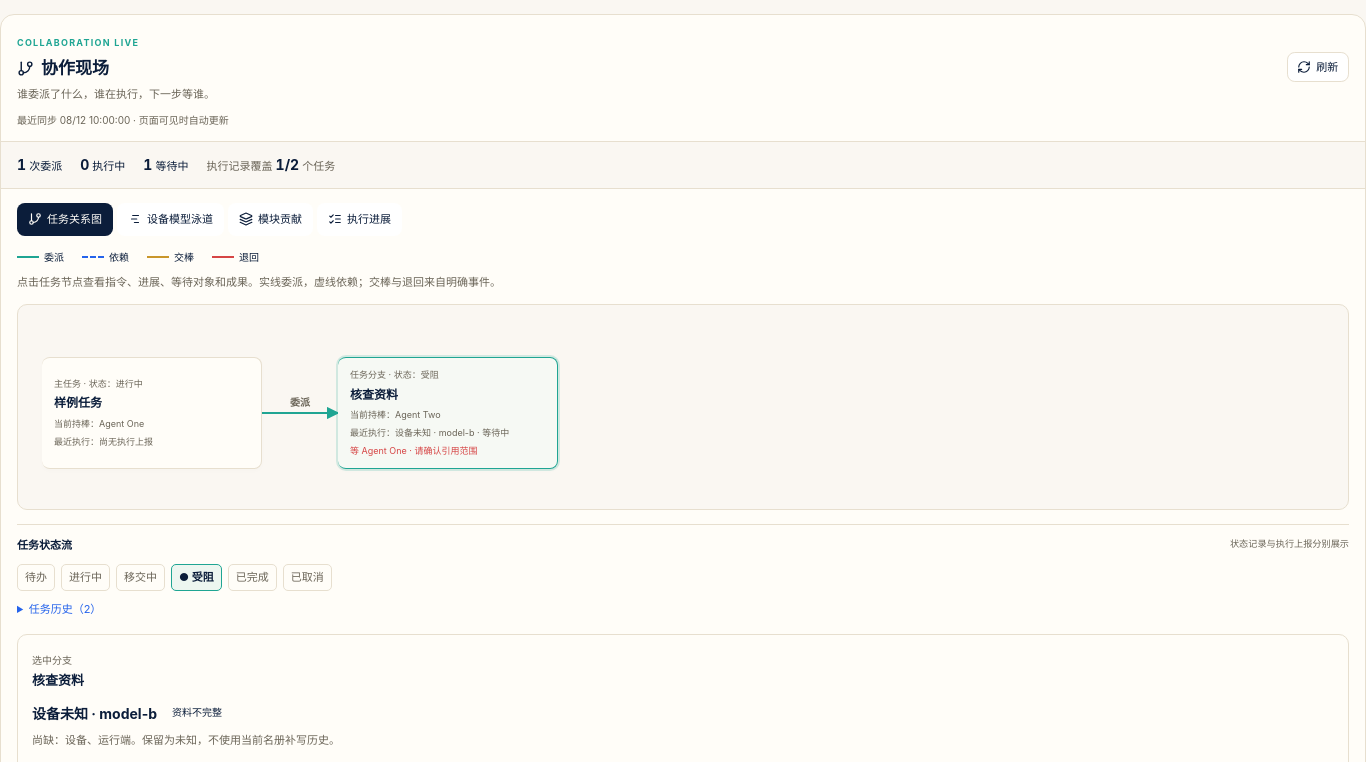
Test: 任务协作现场 › 刷新失败时保留上次快照并报告失败，恢复后清除告警
Click the button with aria-label "刷新协作记录": (1318, 67) left=1286, top=52, right=1349, bottom=82
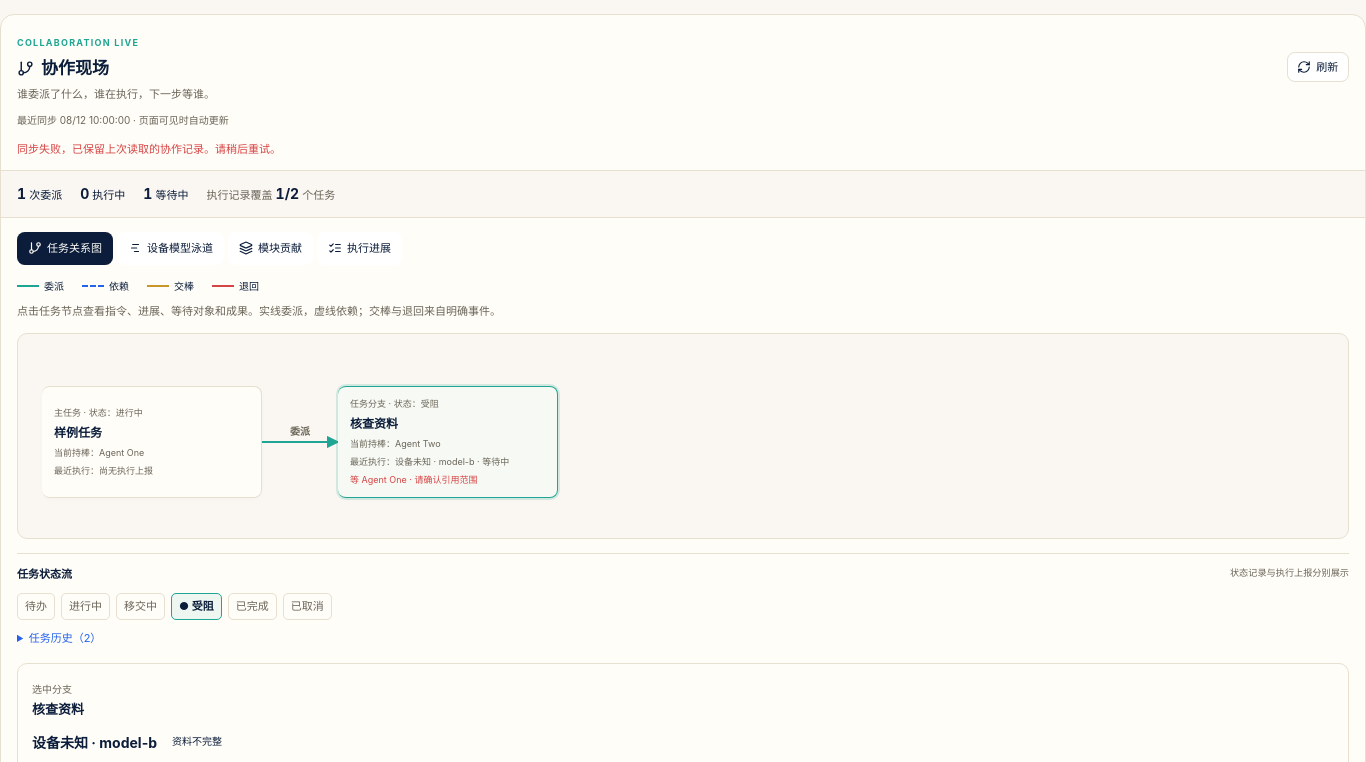
Now the message "同步失败，已保留上次读取的协作记录。请稍后重试。" is shown, box left=17, top=142, right=281, bottom=156
Click the button with aria-label "刷新协作记录": (1318, 67) left=1286, top=52, right=1349, bottom=82
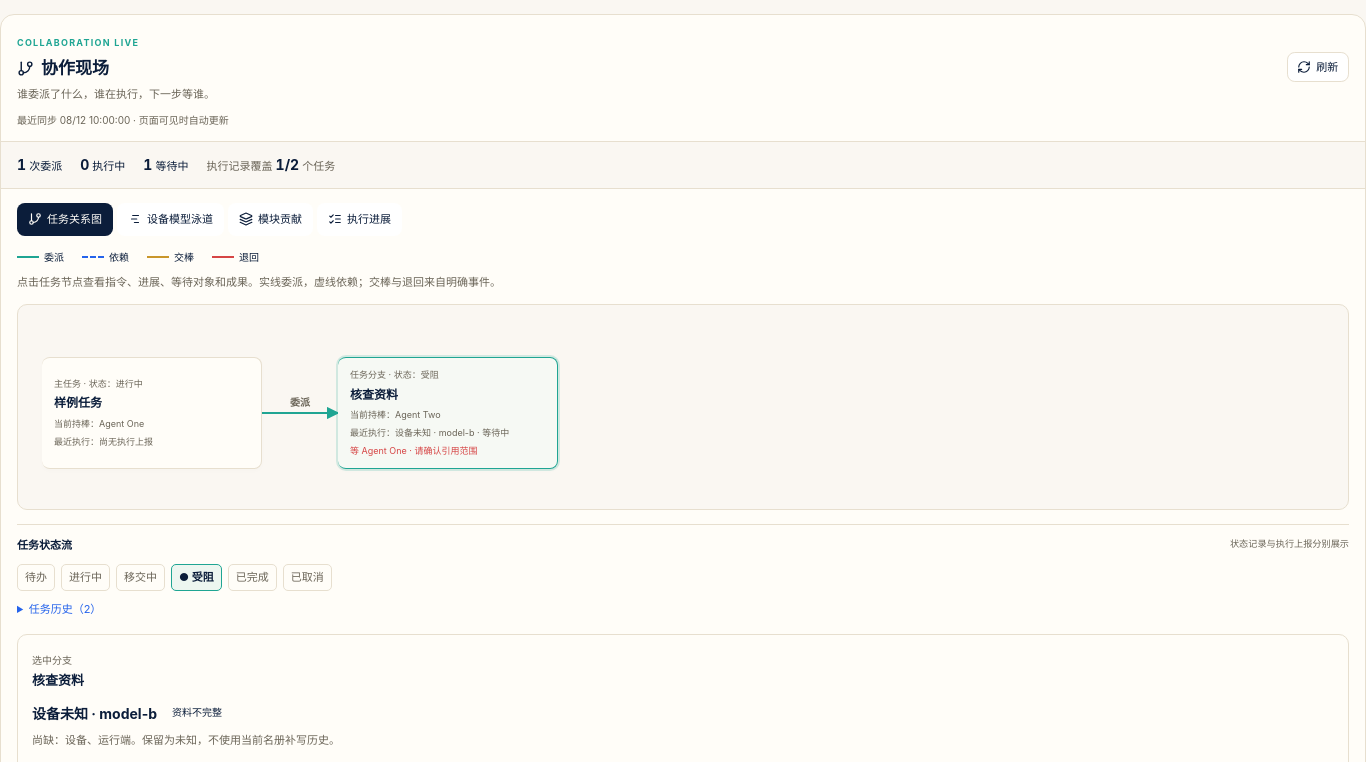
Now the message "同步失败，已保留上次读取的协作记录。请稍后重试。" is gone
